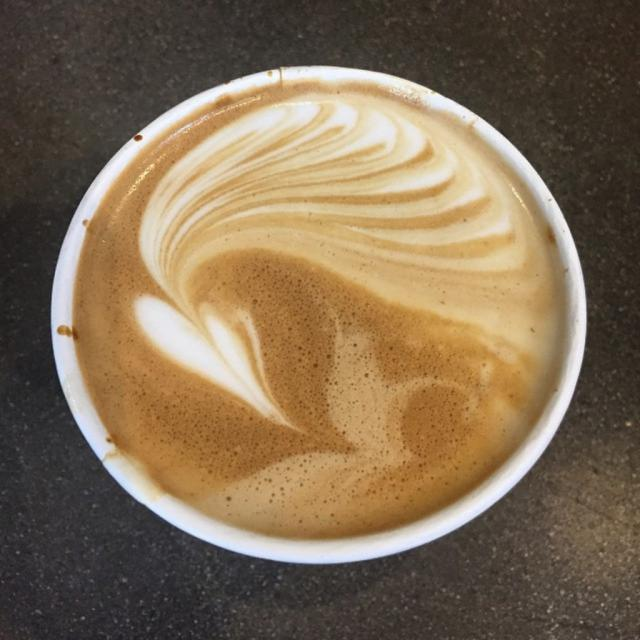Coffee: (78, 80, 566, 542)
